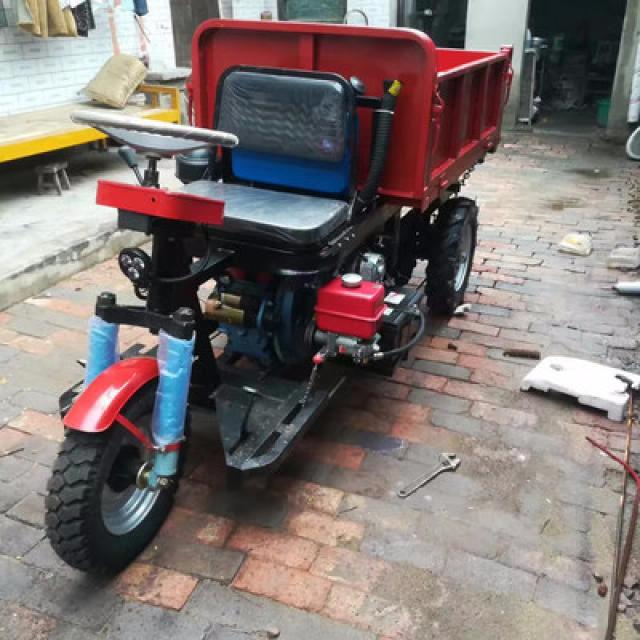tricycle: (35, 16, 512, 574)
